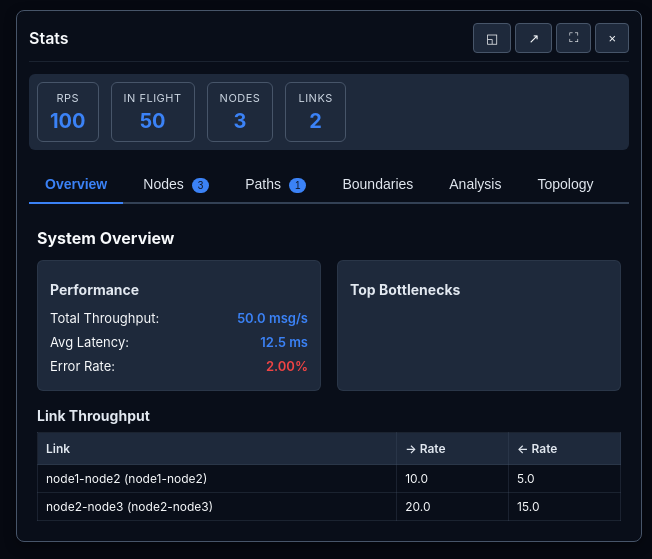
Test case: StatsOverlayEnhanced › switches tabs when clicked
The image size is (652, 559).
Click the button with class "stats-tab" showing "Nodes 3" at (176, 184), box x1=127 y1=166 x2=225 y2=202
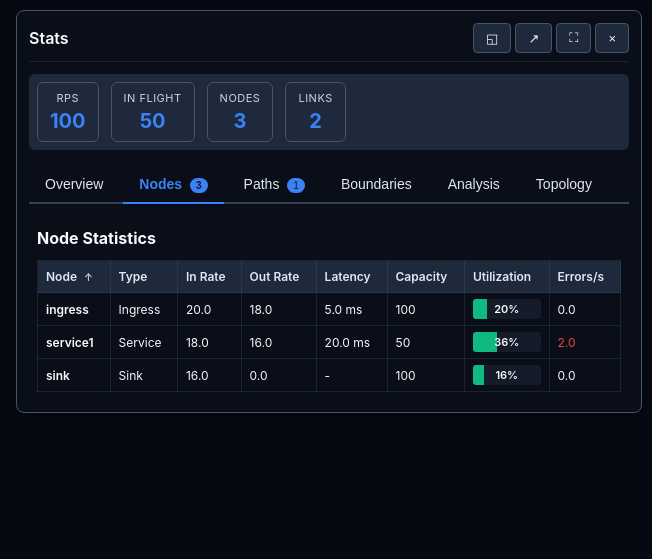
Check: the table with class "stats-table" is shown, box x1=37 y1=260 x2=621 y2=392
Check: the element with class "tab-panel" shows "Node Statistics", box x1=37 y1=228 x2=156 y2=248
